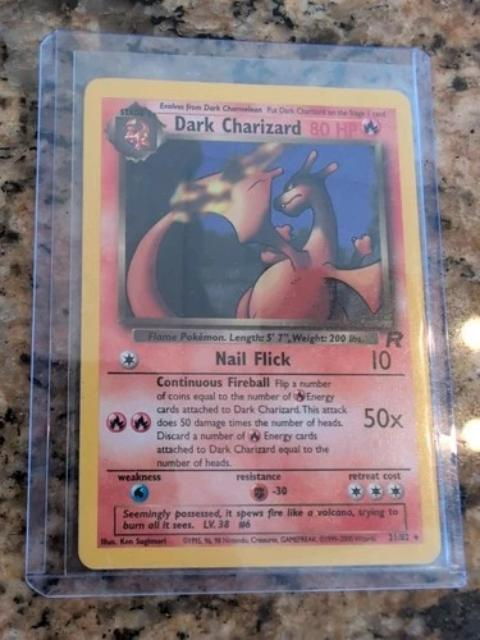Card: (70, 70, 446, 576)
Name: (168, 112, 308, 141)
